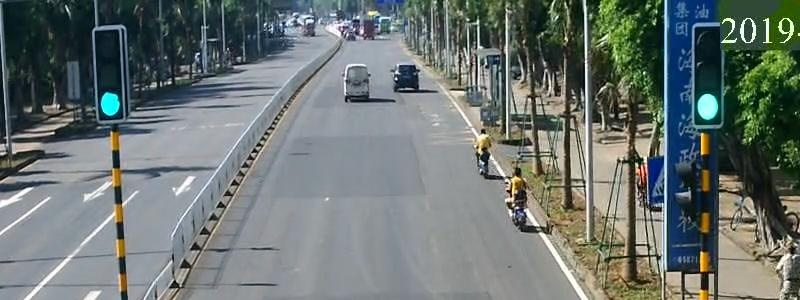green: (691, 88, 730, 130), (92, 87, 129, 126)
